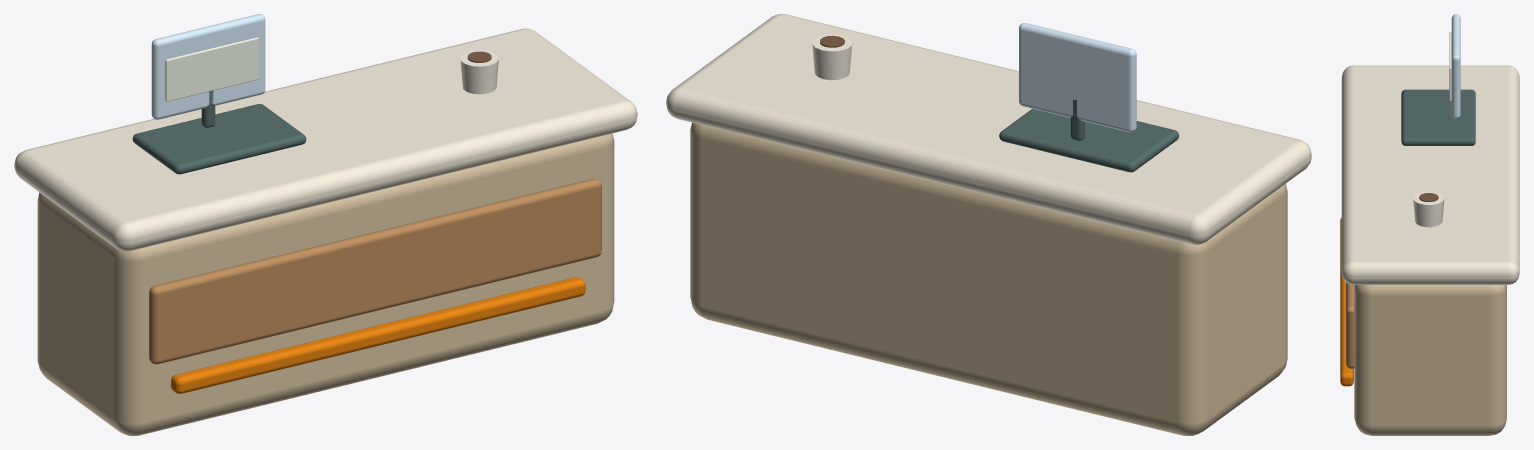
File: reception-counter.glb
The picture shows the model from 3 angles, left to right: view 1: azimuth 30°, elevation 25°; view 2: azimuth 150°, elevation 25°; view 3: azimuth 270°, elevation 25°; orthographic projection. The views are drawn at different scales.
Parts seen in each view (by area): view 1: reception-counter; view 2: reception-counter; view 3: reception-counter.
Boxes of the visible parts, x1,y1,x2,y2 form: reception-counter: [14, 14, 637, 435]; reception-counter: [666, 14, 1311, 435]; reception-counter: [1340, 14, 1519, 435].
Size of the model in its own units: 2.47 by 1.53 by 0.918.
